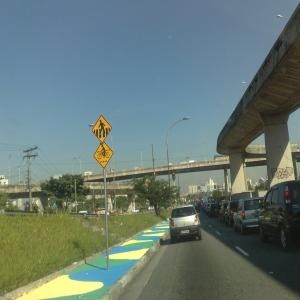Vehicle-registration-plate: (182, 230, 190, 236)
